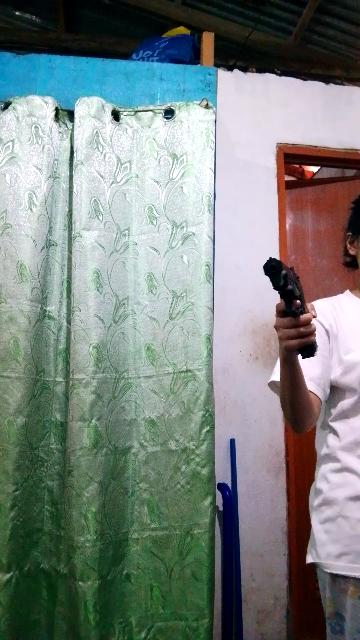pistol: (250, 250, 324, 366)
